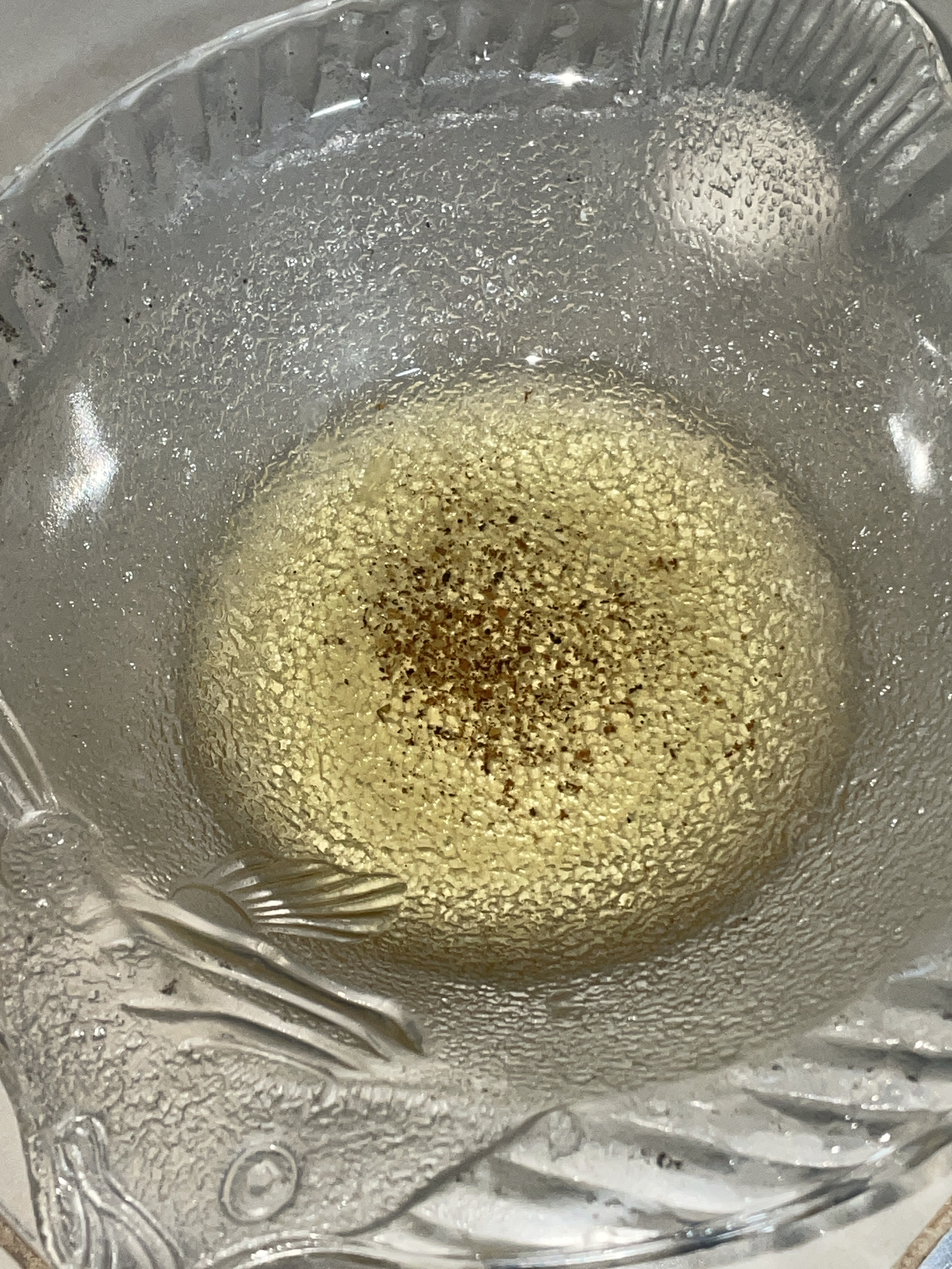reusable: (158, 344, 880, 993)
